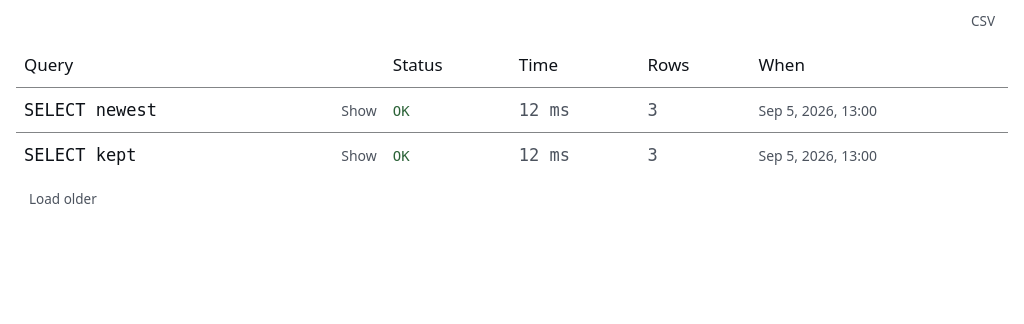
Test case: the query log panel › a row the next page repeats is shown once, and stays as it was
What coordinates should you click on to do the following:
click the button "Show" in the row of "SELECT kept"
I would click on:
 (359, 156)
Its box is [341,145,377,166].
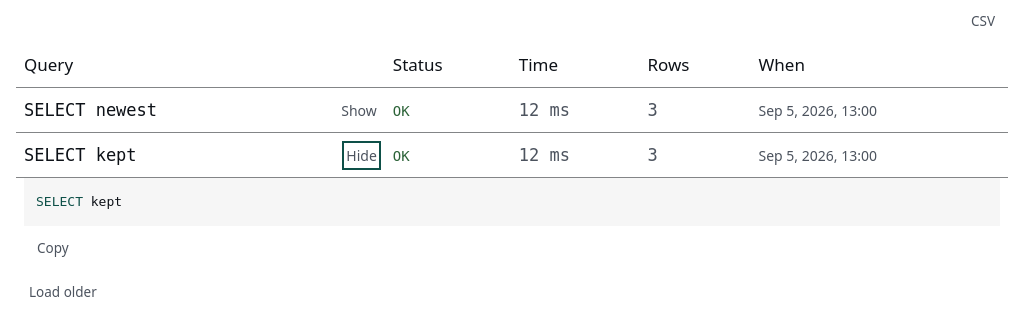
What coordinates should you click on to do the following:
click the button "Load older"
I would click on:
 (63, 292)
Its box is [16,278,110,306].
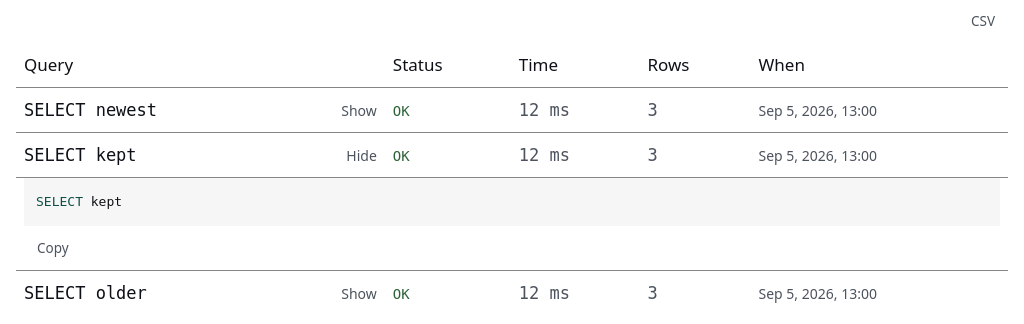
Expected: the text "SELECT kept" is shown once, [24,141,137,169]
Now the button "Hide" is expanded, box [346,145,377,166]
Now the text "SELECT older" is shown, box [24,279,147,307]
